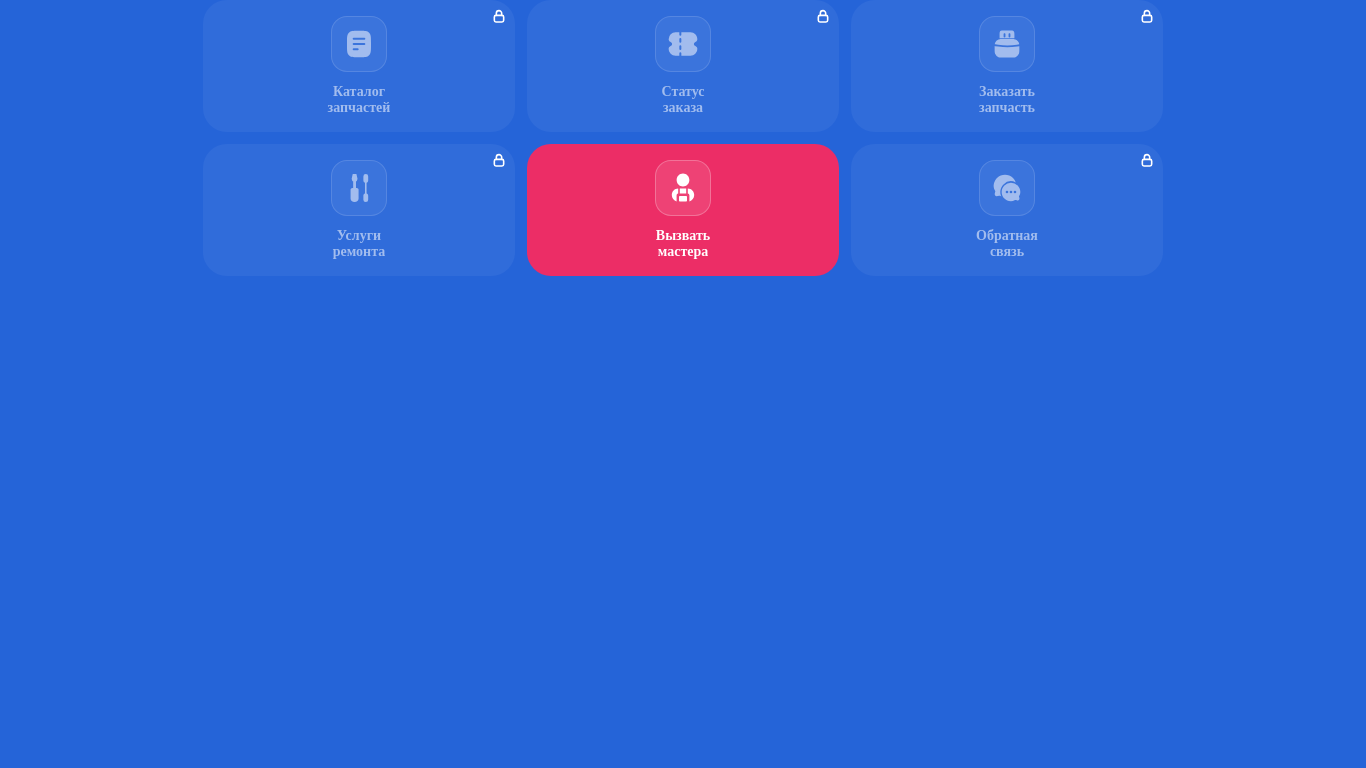
Test case: HomeQuickAction › закрытый раздел открывает окно «Этот раздел ещё в работе», крестик его закрывает
The image size is (1366, 768).
Click the button "Каталог запчастей" at (359, 66), box [203, 0, 515, 132]
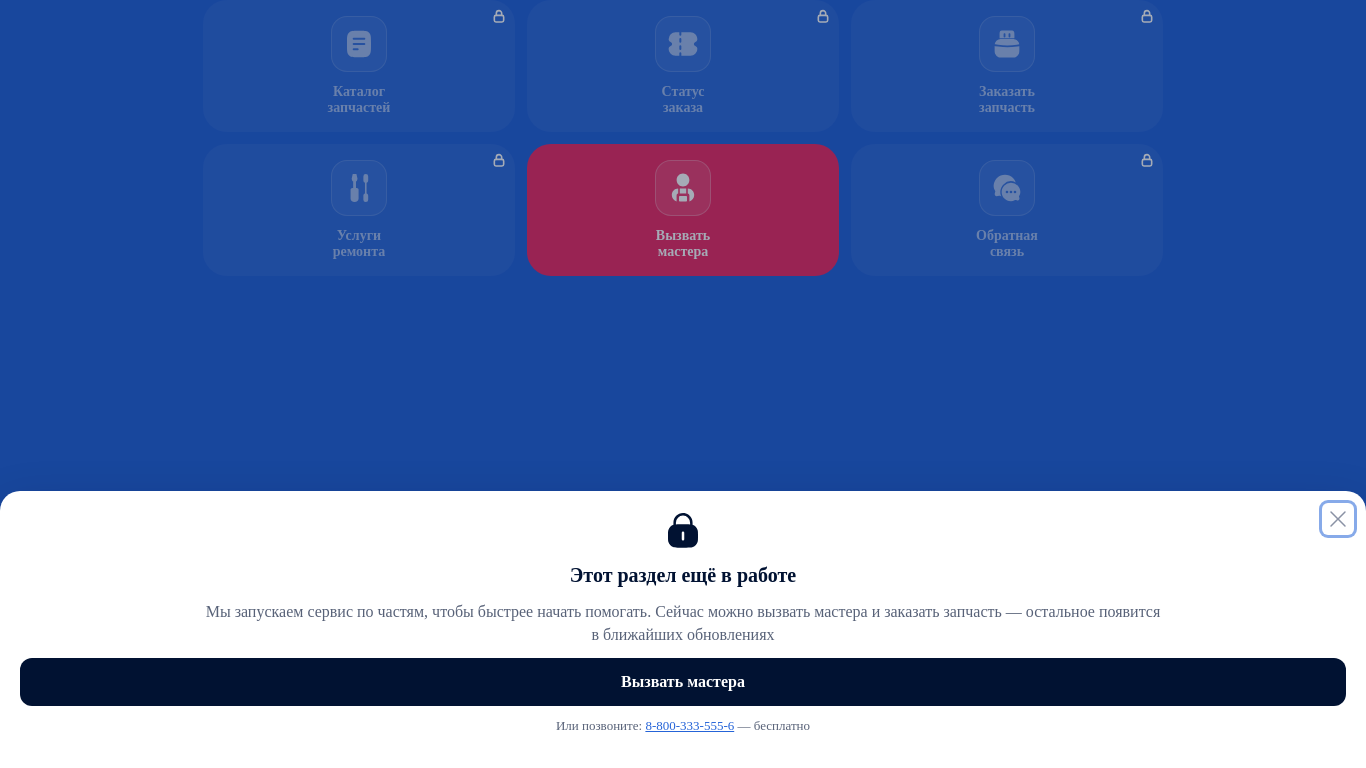
Click the button named "Закрыть" at (1338, 519), box [1322, 503, 1354, 535]
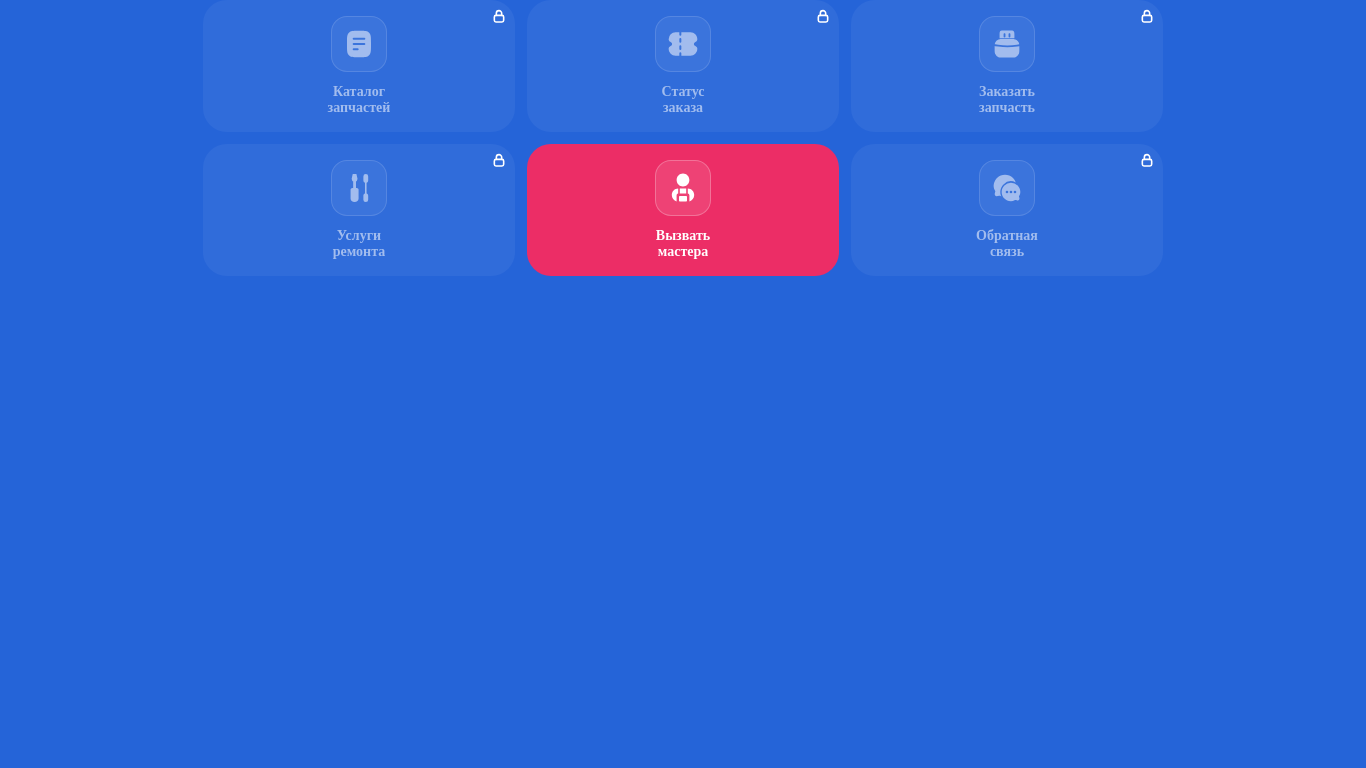
Now the dialog is gone
